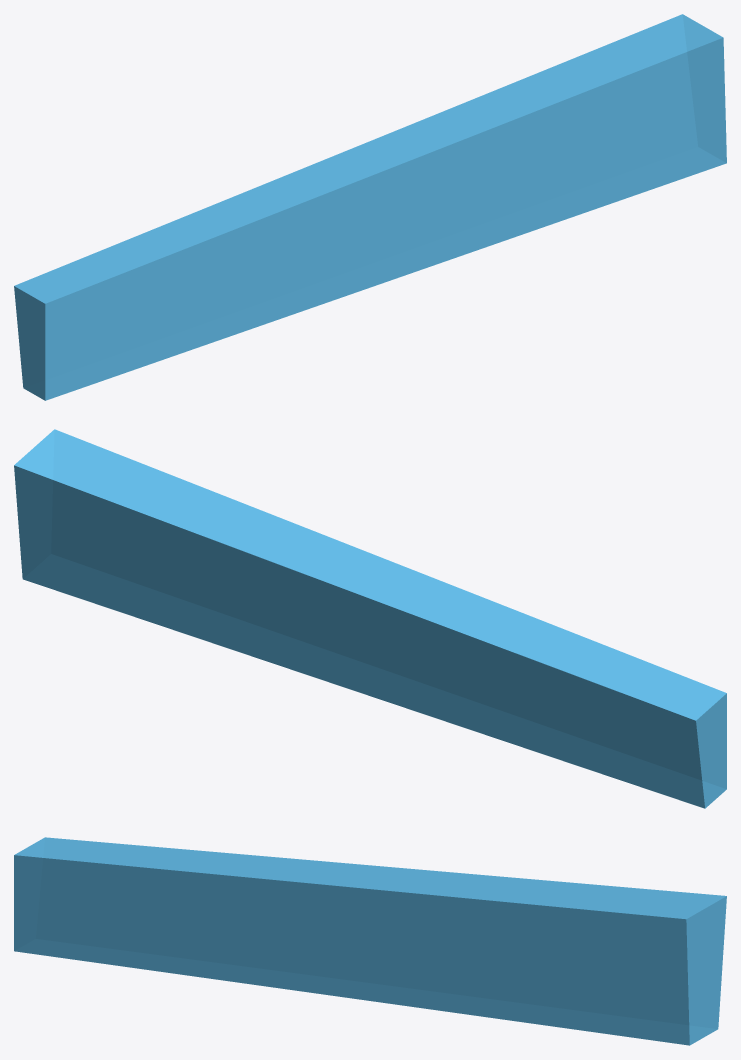
File: Event_421115418_HErechit_121.fbx
3 views of the same model, one above another, from view 1: azimuth 30°, elevation 25°; view 2: azimuth 150°, elevation 25°; view 3: azimuth 330°, elevation 25° (orthographic).
Visible parts, largest first — view 1: Model; view 2: Model; view 3: Model.
Part boxes in pixels (<box>): Model: <box>14,14,726,400</box>; Model: <box>14,429,726,808</box>; Model: <box>14,837,726,1045</box>.
Size of the model in its own units: 3.44 by 0.9698 by 0.3575.
